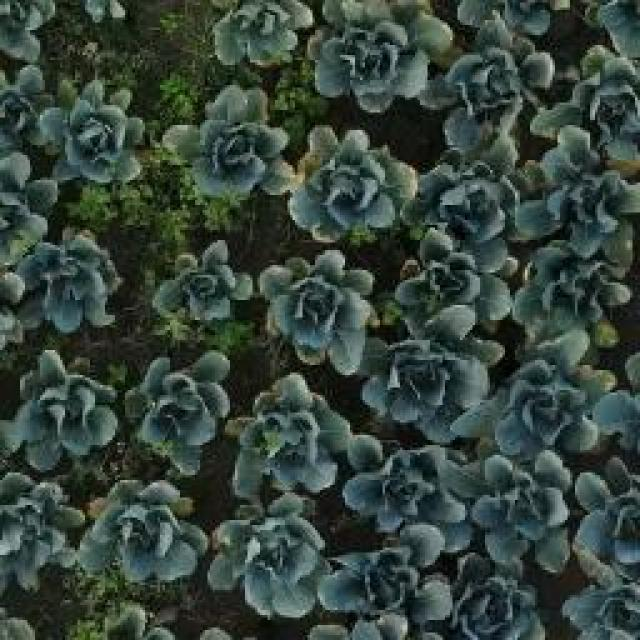cabbage: (171, 92, 301, 201), (213, 498, 324, 622), (232, 381, 354, 493), (8, 217, 118, 335), (291, 126, 409, 235), (493, 343, 611, 450), (82, 484, 208, 584), (125, 354, 238, 463), (7, 346, 115, 460), (265, 255, 373, 369), (314, 5, 444, 97), (353, 449, 474, 540), (40, 84, 146, 186), (396, 236, 512, 329), (367, 344, 484, 436), (327, 547, 446, 635), (479, 460, 575, 566), (526, 245, 636, 336), (3, 475, 83, 594), (537, 153, 640, 242), (417, 148, 526, 232), (152, 240, 253, 327), (450, 27, 542, 122), (556, 49, 640, 143), (453, 555, 543, 640), (214, 0, 307, 63), (562, 574, 640, 640), (580, 490, 640, 572)
